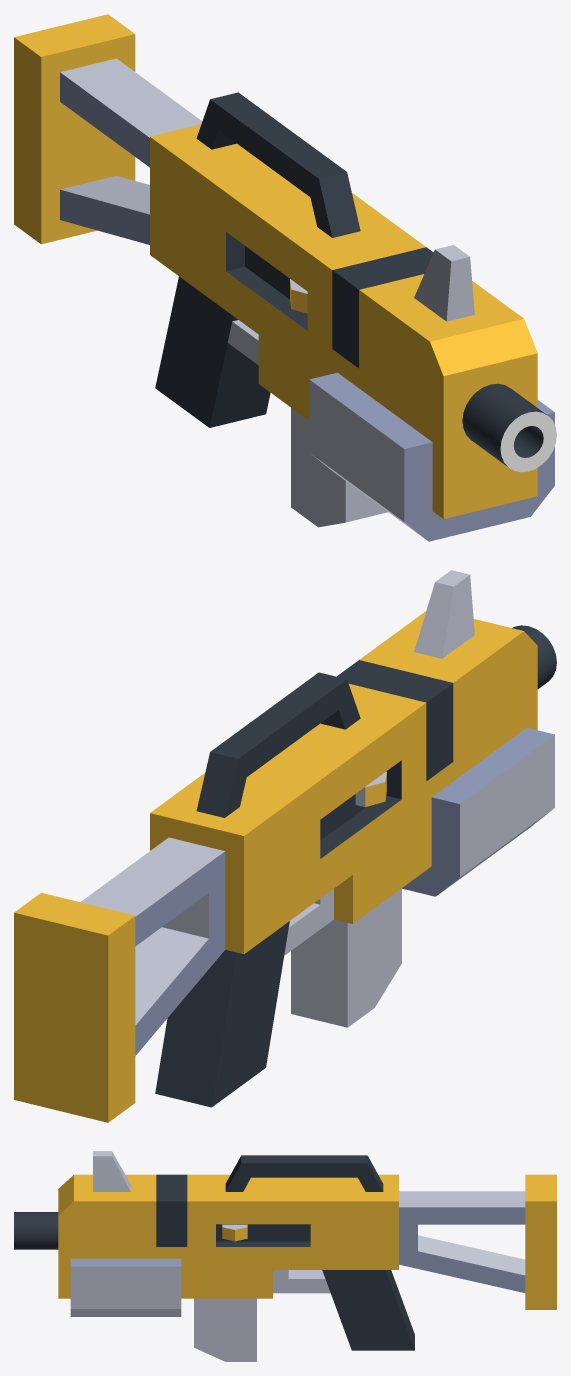
Rendered from submachine_gunB.glb.
3 renders of one model, top to bottom at view 1: azimuth 30°, elevation 25°; view 2: azimuth 150°, elevation 25°; view 3: azimuth 270°, elevation 25°, orthographic. The views are drawn at different scales.
Visible parts, largest first — view 1: blasterD; view 2: blasterD; view 3: blasterD.
Part boxes in pixels (left/top/right/bottom): blasterD: left=14, top=14, right=556, bottom=541; blasterD: left=14, top=570, right=556, bottom=1122; blasterD: left=14, top=1151, right=556, bottom=1361.
Bounding box in the file's own units: 0.16 × 0.35 × 0.86.
